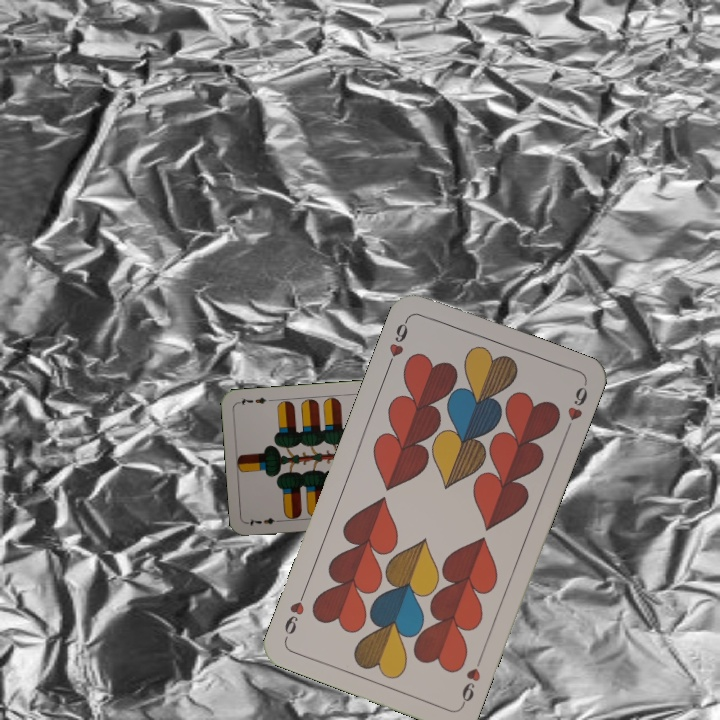E7: (244, 513, 285, 528)
H9: (383, 313, 412, 370), (457, 652, 485, 709)
